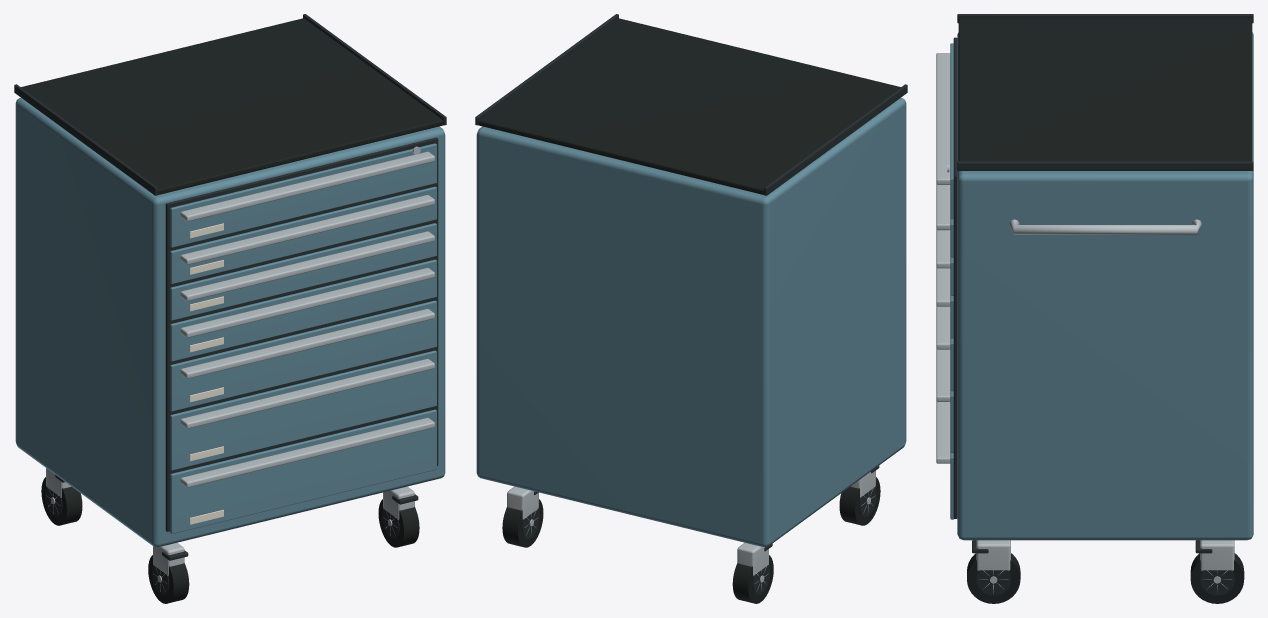
Rendered from rolling-tool-cabinet.glb.
The picture shows the model from 3 angles, left to right: view 1: azimuth 30°, elevation 25°; view 2: azimuth 150°, elevation 25°; view 3: azimuth 270°, elevation 25°; orthographic projection. The views are drawn at different scales.
Visible parts, largest first — view 1: rolling-tool-cabinet authored assembly; view 2: rolling-tool-cabinet authored assembly; view 3: rolling-tool-cabinet authored assembly.
Part boxes in pixels (bbox=[...]): rolling-tool-cabinet authored assembly: bbox=[14, 14, 446, 603]; rolling-tool-cabinet authored assembly: bbox=[475, 14, 907, 603]; rolling-tool-cabinet authored assembly: bbox=[936, 14, 1253, 603].
Bounding box in the file's own units: 0.72 × 0.96 × 0.61.
